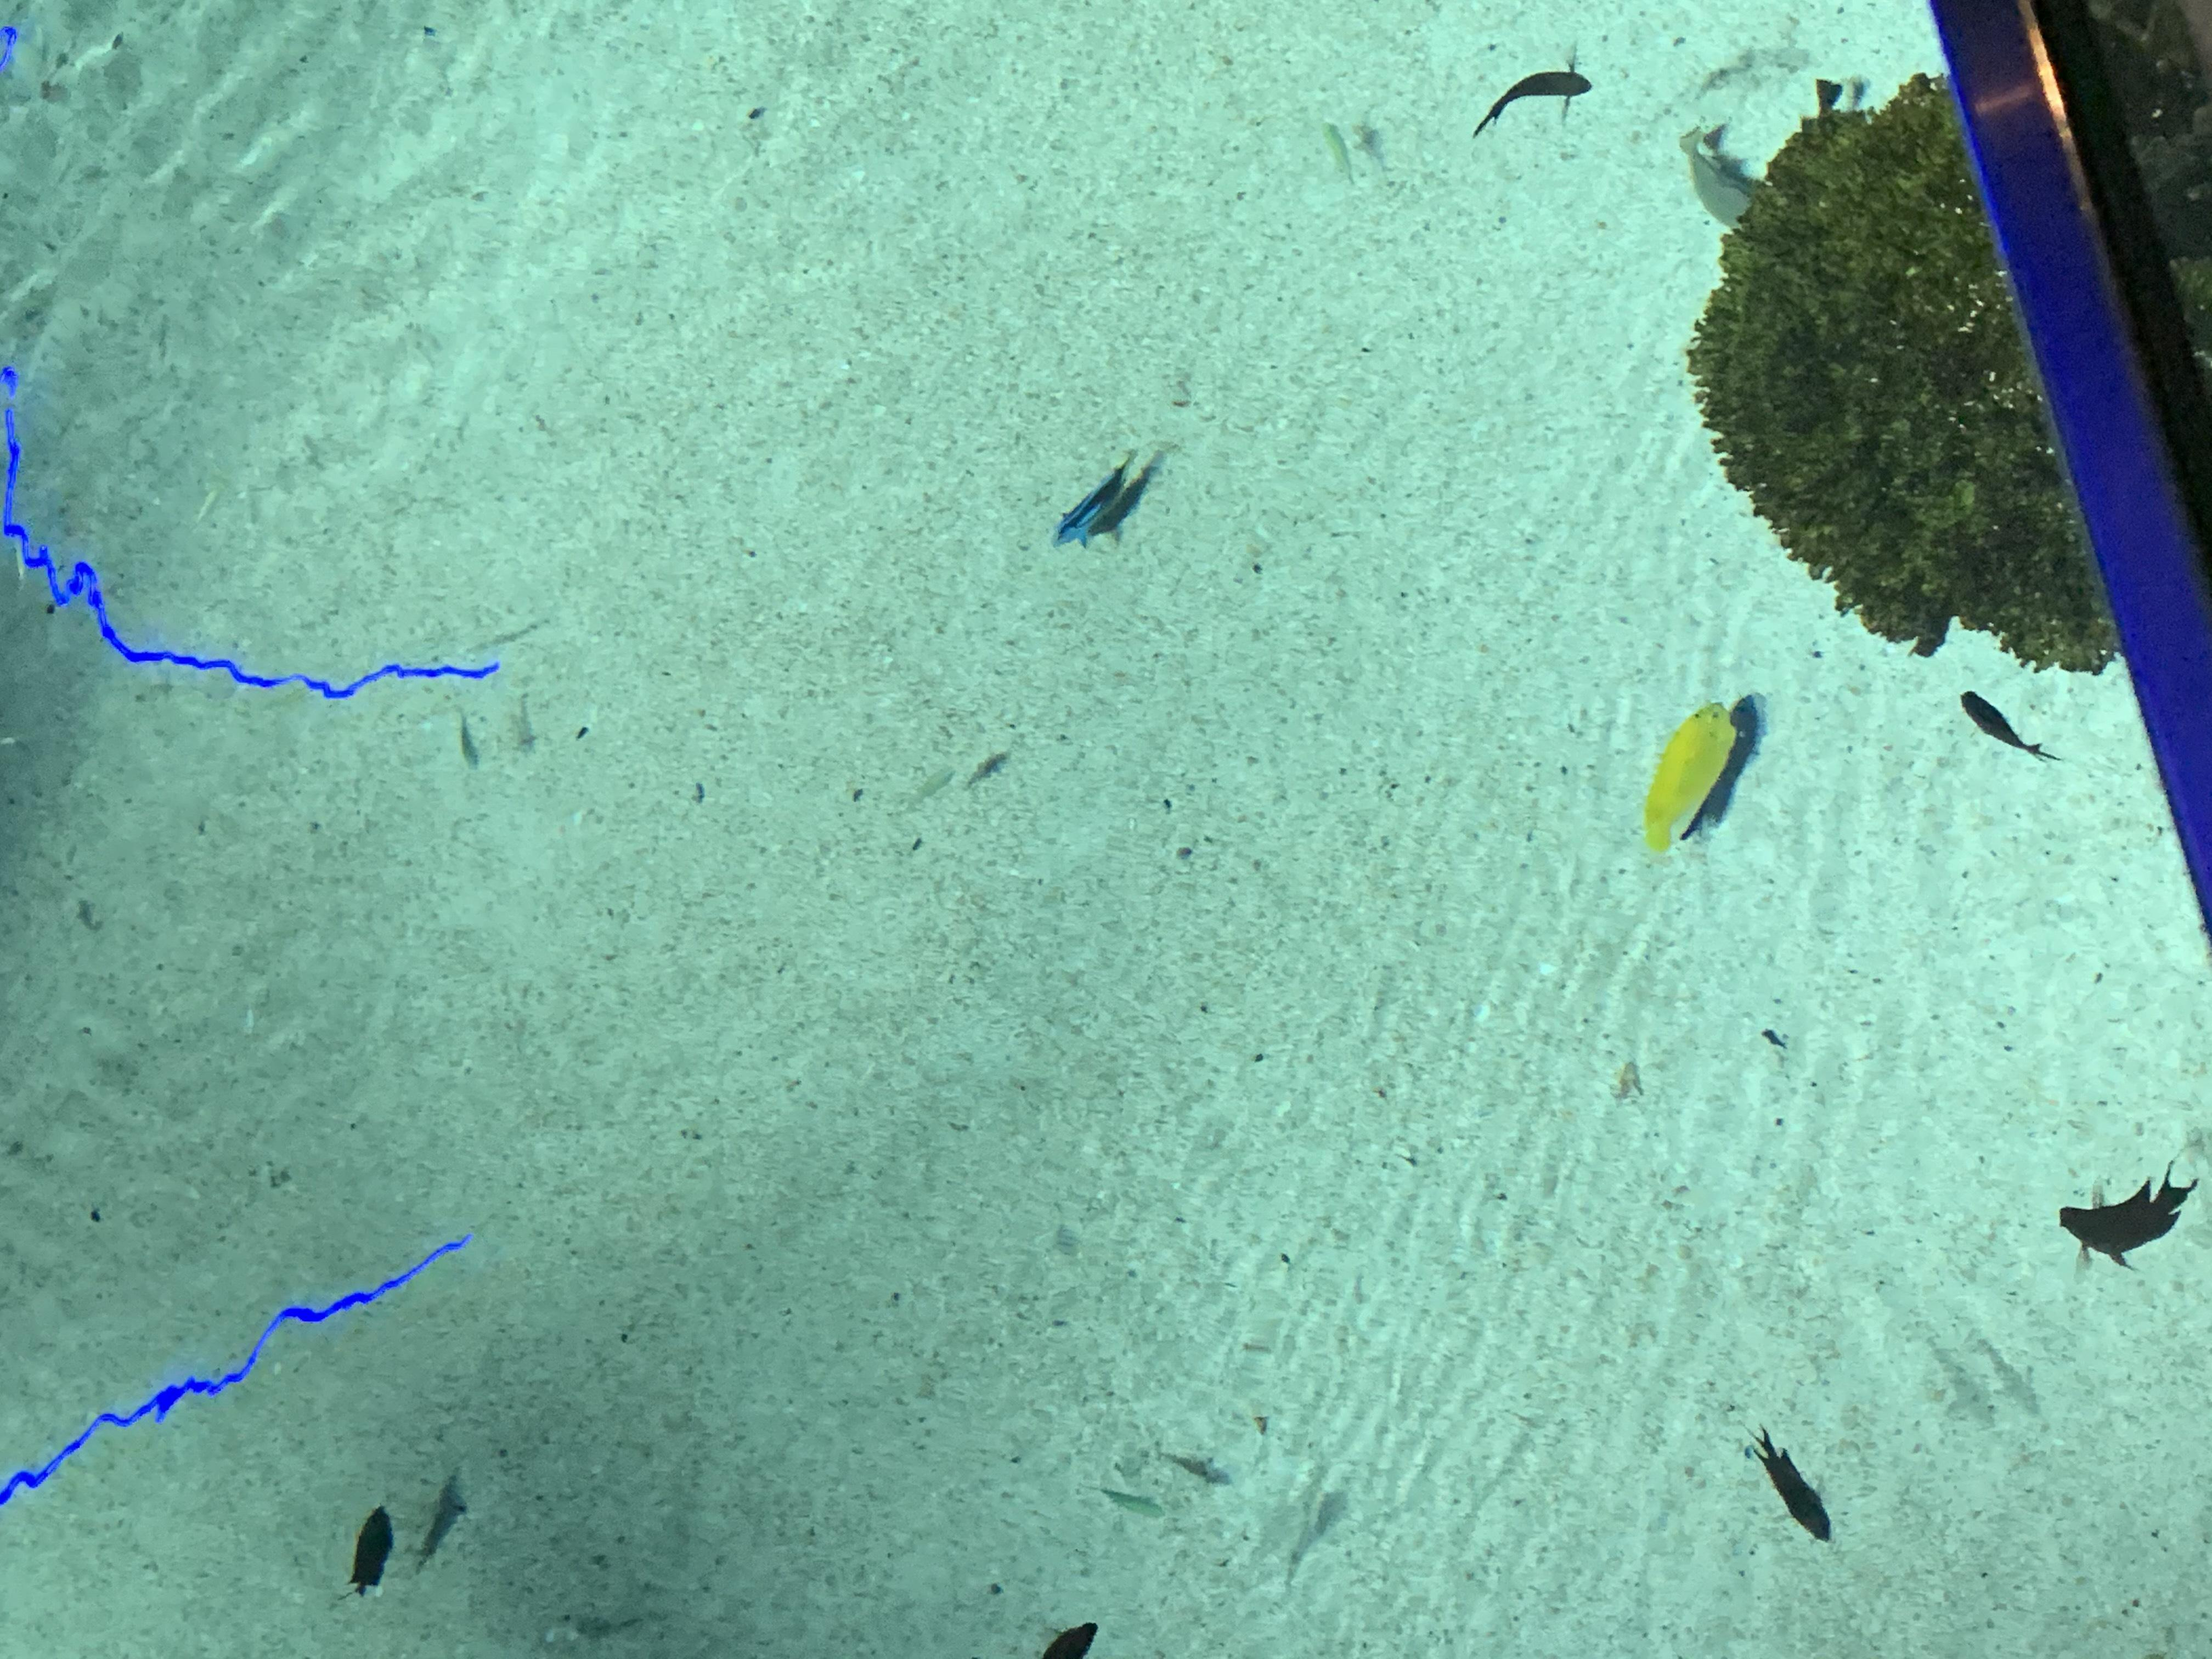fish: (1629, 692, 1756, 873), (2050, 1162, 2198, 1281), (1738, 1420, 1851, 1554), (1468, 51, 1604, 157), (1949, 681, 2059, 781), (1042, 453, 1143, 558), (1676, 122, 1756, 232), (345, 1504, 404, 1605), (1089, 1471, 1162, 1534), (902, 760, 963, 816), (1158, 1445, 1223, 1495), (1031, 1615, 1103, 1659), (1318, 120, 1362, 181), (446, 711, 484, 777)
